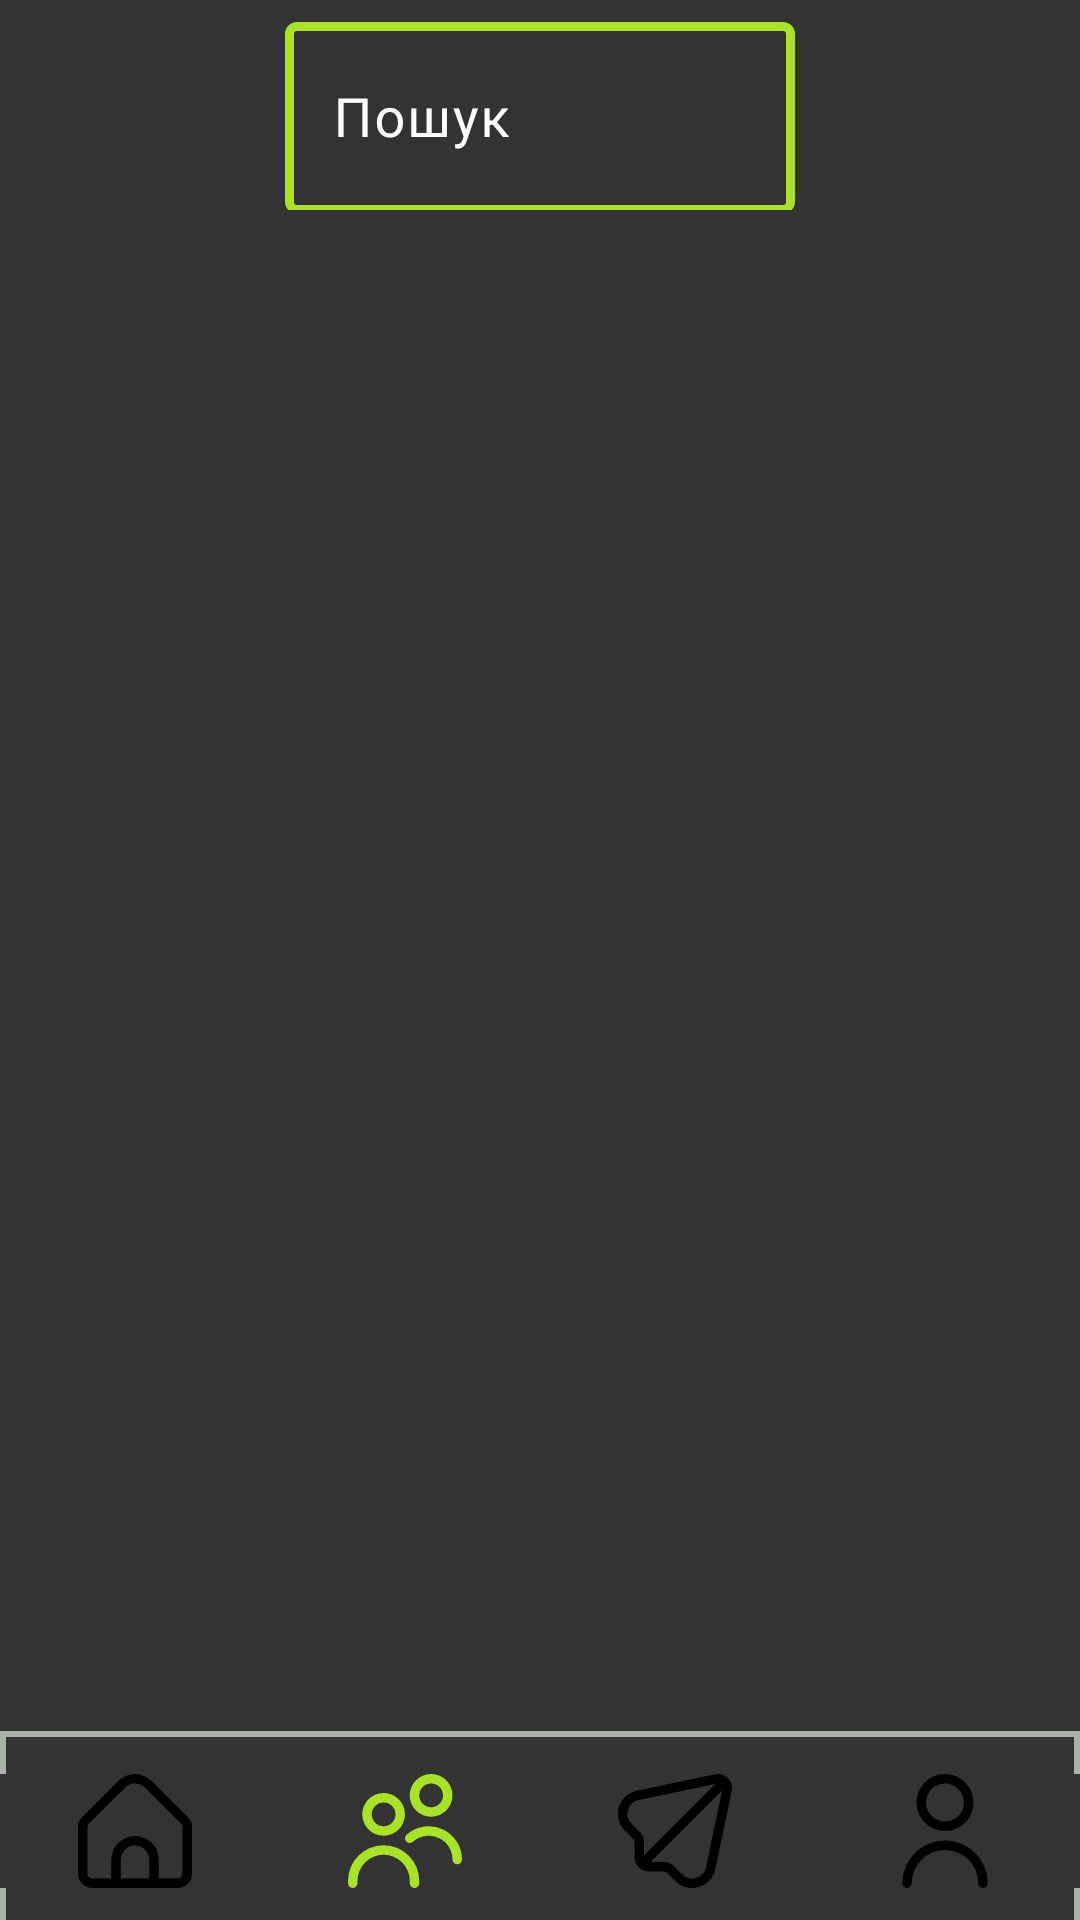

Screen size 1080*1920. Icon name, then its box in pixels as (x1, y1, x2, y2):
free font home: (78, 1774, 192, 1888)
user: (902, 1774, 988, 1888)
users font select: (348, 1774, 462, 1888)
